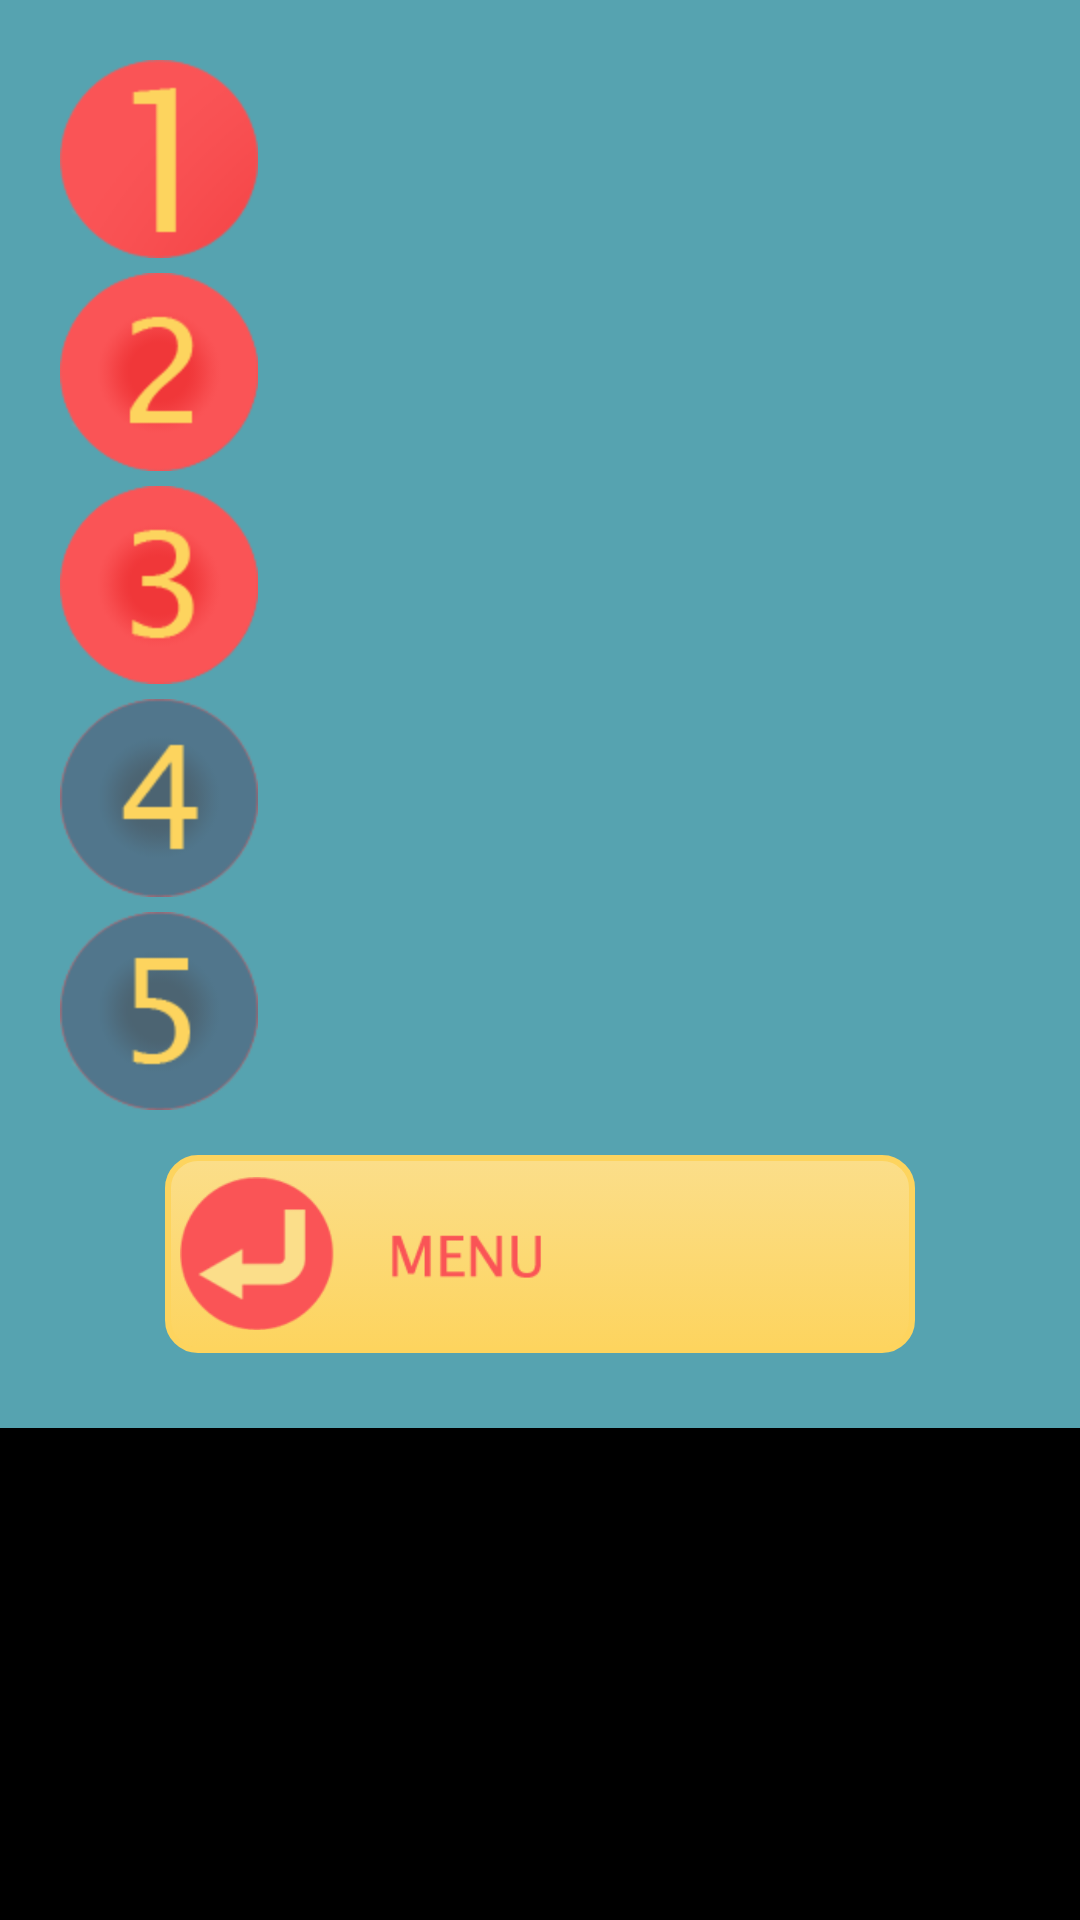

Screen size 1080×1920. Icon name, then its box in pixels as (x1, y1, x2, y2):
fifth place: (60, 912, 258, 1110)
first place: (60, 60, 258, 258)
fourth place: (60, 699, 258, 897)
second place: (60, 273, 258, 471)
third place: (60, 486, 258, 684)
